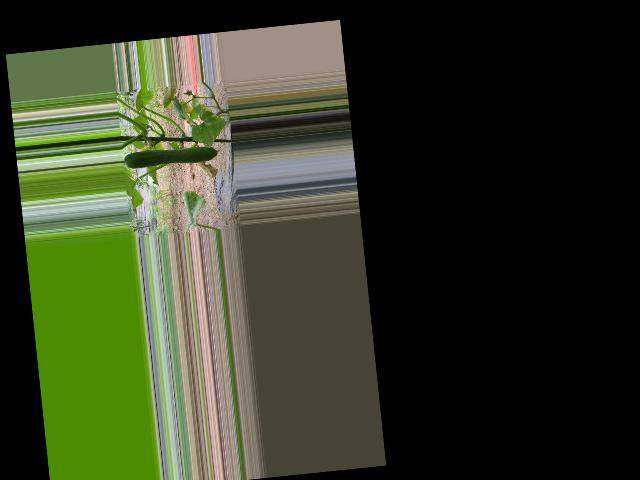cucumber: (124, 143, 221, 170)
